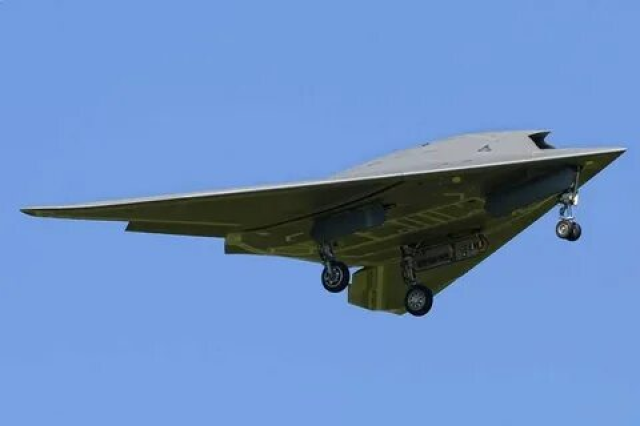military drone: (20, 128, 628, 317)
